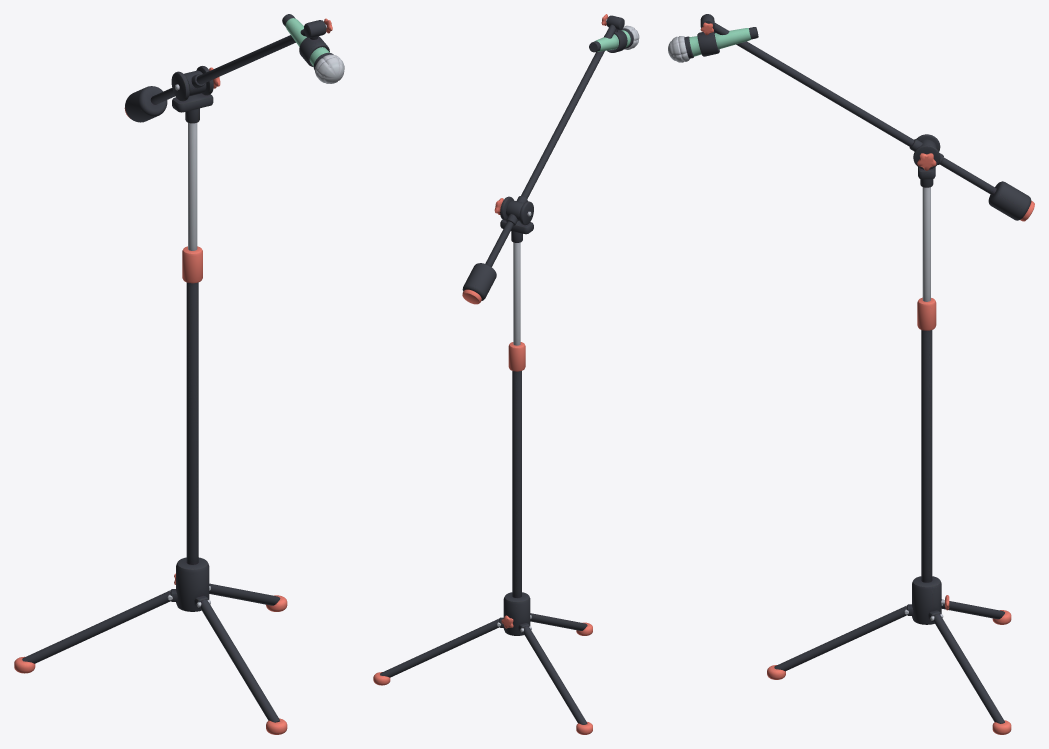
3 views of the same model, side by side, from view 1: azimuth 30°, elevation 25°; view 2: azimuth 150°, elevation 25°; view 3: azimuth 270°, elevation 25° (orthographic). The views are drawn at different scales.
Parts seen in each view (by area): view 1: singing-tripod, singing-boom, singing-mic-pickup; view 2: singing-tripod, singing-boom; view 3: singing-tripod, singing-boom, singing-mic-handle.
Boxes of the visible parts, x1=… form: singing-tripod: x1=14, y1=66, x2=287, y2=734; singing-boom: x1=124, y1=14, x2=332, y2=122; singing-mic-pickup: x1=315, y1=54, x2=344, y2=83; singing-tripod: x1=373, y1=196, x2=592, y2=734; singing-boom: x1=462, y1=14, x2=624, y2=304; singing-tripod: x1=767, y1=134, x2=1011, y2=734; singing-boom: x1=700, y1=14, x2=1034, y2=221; singing-mic-handle: x1=689, y1=28, x2=751, y2=56.
Size of the model in its own units: 0.6416 by 1.67 by 0.8423.
Materials: 2 (2 with a texture image).
